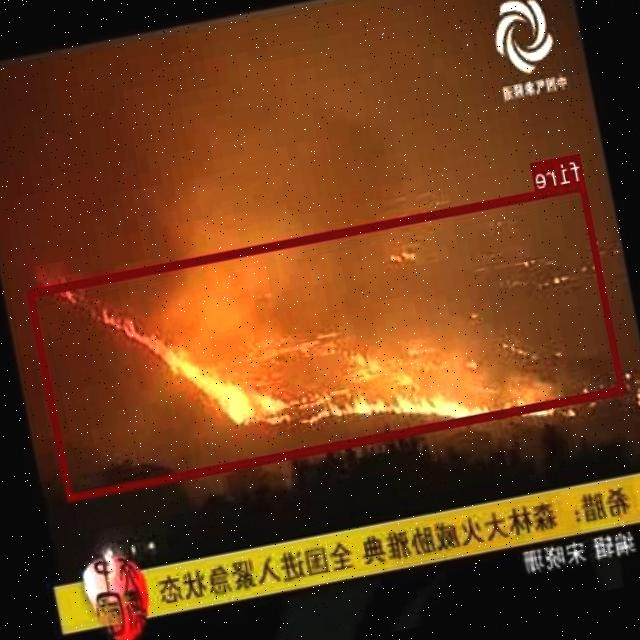fire: (28, 180, 626, 499)
